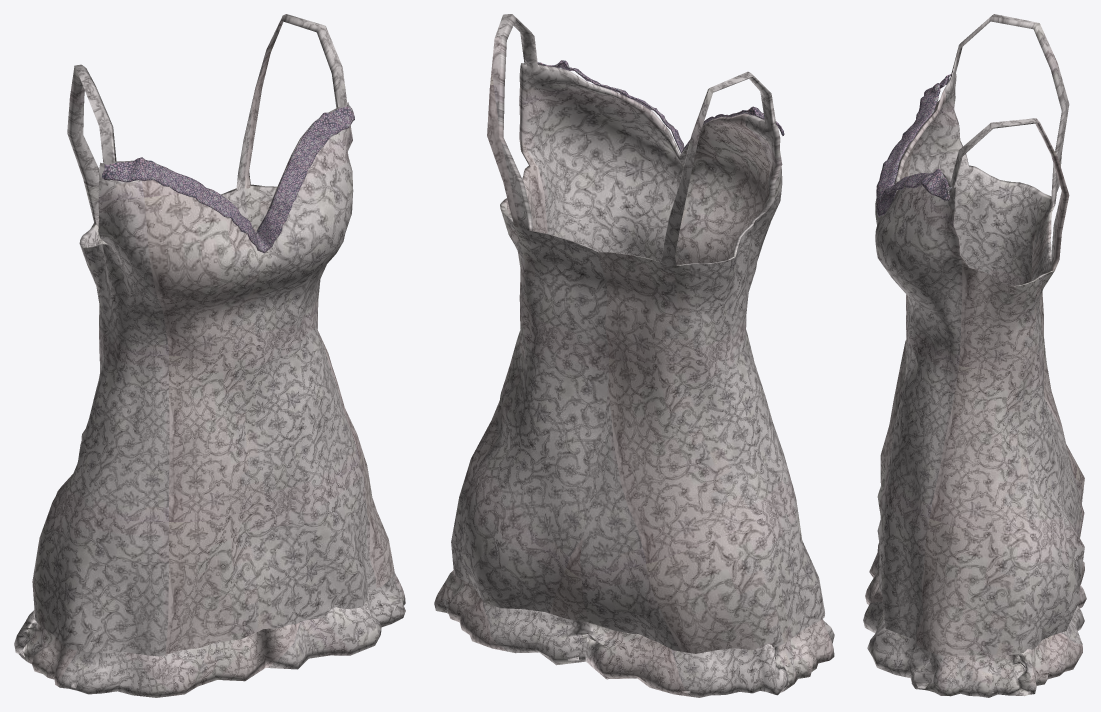
The model's file is slip.fbx.
The picture shows the model from 3 angles, left to right: view 1: azimuth 30°, elevation 25°; view 2: azimuth 150°, elevation 25°; view 3: azimuth 270°, elevation 25°; orthographic projection. The views are drawn at different scales.
Visible parts, largest first — view 1: slip (exterior), dress frills, top frills, slip (interior); view 2: slip (exterior), slip (interior), dress frills, top frills; view 3: slip (exterior), slip (interior), dress frills, top frills.
Part boxes in pixels (x1,y1,x2,y2): slip (exterior): (32, 14, 394, 656); dress frills: (14, 572, 405, 697); top frills: (102, 105, 354, 253); slip (interior): (67, 15, 347, 247); slip (exterior): (451, 14, 824, 653); slip (interior): (498, 14, 782, 265); dress frills: (434, 569, 834, 697); top frills: (537, 60, 784, 153); slip (exterior): (875, 14, 1084, 655); slip (interior): (895, 16, 1069, 286); dress frills: (863, 542, 1086, 697); top frills: (876, 74, 952, 217).
Size of the model in its own units: 1.97 by 3.07 by 1.13.
